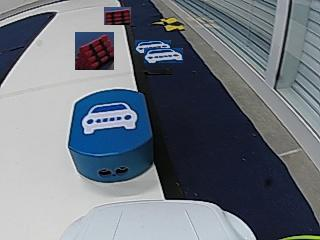safety: (82, 102, 139, 133)
